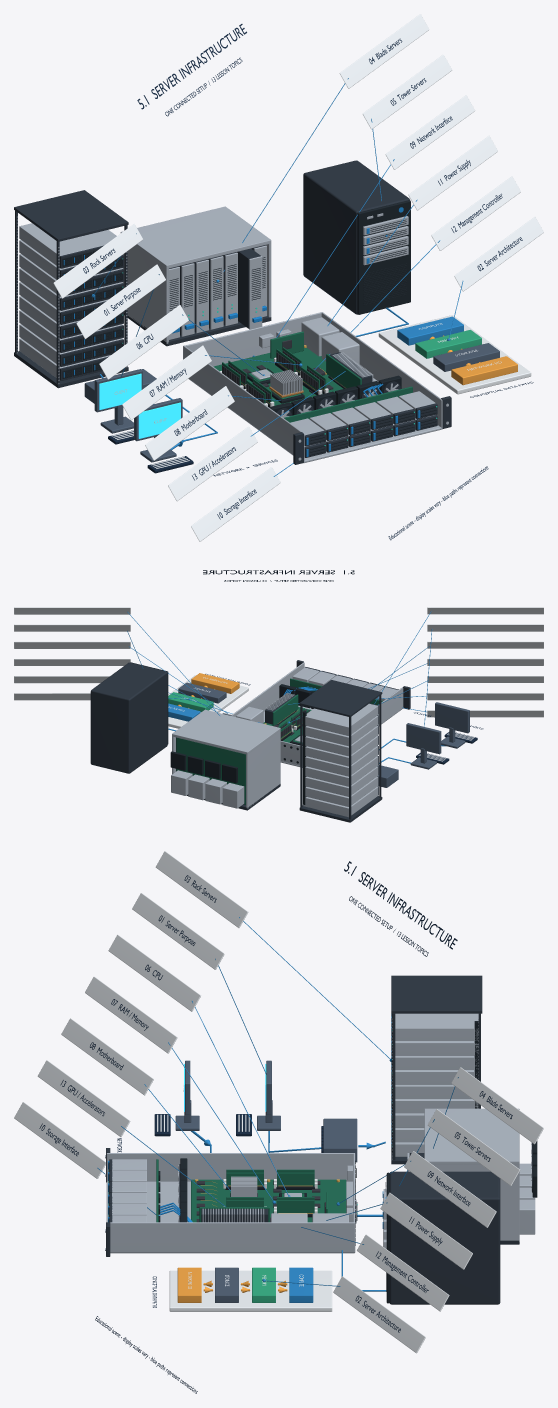
The picture shows the model from 3 angles, top to bottom: view 1: azimuth 30°, elevation 25°; view 2: azimuth 150°, elevation 25°; view 3: azimuth 270°, elevation 25°; orthographic projection. The views are drawn at different scales.
Visible parts, largest first — view 1: Tower server / Tower case, Blade enclosure / Enclosure top, Tower server / Tower front, Rack cabinet / Cabinet roof, Detailed rack server / Side rail, Detailed rack server / Rear panel, Architecture board, Blade enclosure / Enclosure wall, Label backing gpu, Label backing ram, Label backing motherboard, Label backing storage_interface (+37 smaller); view 2: Tower server / Tower case, Blade enclosure / Enclosure top, Blade enclosure / Enclosure wall, Rack cabinet / Cabinet roof, Blade enclosure / Shared midplane, Rack cabinet / Rack server enclosure.008, Label backing blade_servers, Label backing cpu, Label backing gpu, Label backing network, Label backing server_purpose, Label backing tower_servers (+34 smaller); view 3: Tower server / Tower case, Detailed rack server / Side rail.001, Detailed rack server / Side rail, Architecture board, Rack cabinet / Cabinet roof, Blade enclosure / Enclosure top, Detailed rack server / Main PCB, Rack cabinet / Rack server enclosure.008, Label backing psu, Label backing tower_servers, Label backing blade_servers, Label backing cpu (+23 smaller).
Boxes of the visible parts, x1,y1,x2,y2 form: Tower server / Tower case: [303, 160, 409, 314]; Blade enclosure / Enclosure top: [120, 206, 271, 268]; Tower server / Tower front: [357, 200, 410, 314]; Rack cabinet / Cabinet roof: [14, 190, 128, 241]; Detailed rack server / Side rail: [183, 345, 304, 461]; Detailed rack server / Rear panel: [184, 312, 321, 366]; Architecture board: [378, 315, 531, 394]; Blade enclosure / Enclosure wall: [122, 245, 168, 343]; Label backing gpu: [168, 426, 257, 501]; Label backing ram: [122, 345, 211, 420]; Label backing motherboard: [145, 386, 234, 460]; Label backing storage_interface: [191, 467, 280, 541]; Tower server / Tower case: [90, 662, 167, 773]; Blade enclosure / Enclosure top: [172, 709, 280, 754]; Blade enclosure / Enclosure wall: [246, 730, 280, 808]; Rack cabinet / Cabinet roof: [299, 680, 382, 717]; Blade enclosure / Shared midplane: [176, 737, 245, 804]; Rack cabinet / Rack server enclosure.008: [305, 703, 378, 735]; Label backing blade_servers: [14, 607, 130, 614]; Label backing cpu: [427, 641, 543, 648]; Label backing gpu: [427, 693, 543, 700]; Label backing network: [14, 641, 130, 648]; Label backing server_purpose: [427, 624, 543, 631]; Label backing tower_servers: [14, 624, 130, 631]; Tower server / Tower case: [389, 1171, 500, 1304]; Detailed rack server / Side rail.001: [110, 1222, 355, 1252]; Detailed rack server / Side rail: [106, 1153, 355, 1181]; Architecture board: [169, 1270, 332, 1311]; Rack cabinet / Cabinet roof: [391, 975, 482, 1013]; Blade enclosure / Enclosure top: [424, 1108, 519, 1164]; Detailed rack server / Main PCB: [191, 1179, 346, 1222]; Rack cabinet / Rack server enclosure.008: [395, 1013, 478, 1040]; Label backing psu: [380, 1192, 472, 1269]; Label backing tower_servers: [427, 1109, 520, 1185]; Label backing blade_servers: [451, 1067, 543, 1144]; Label backing cpu: [108, 934, 200, 1011].
Bounding box in the file's own units: 7.26 × 4.34 × 5.28.
